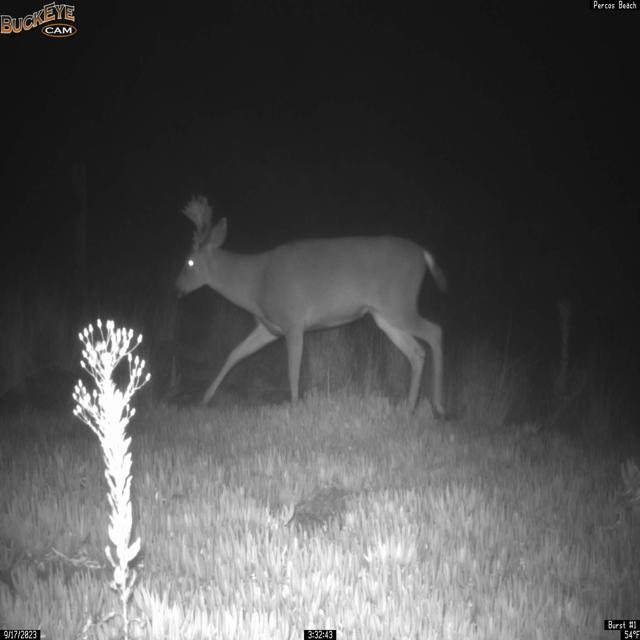deer: (172, 194, 451, 421)
